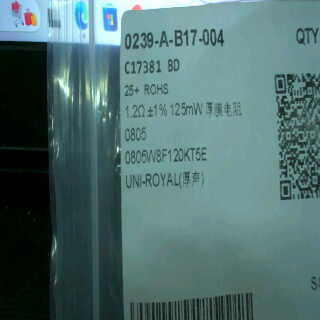1.2R: (122, 101, 150, 144)
